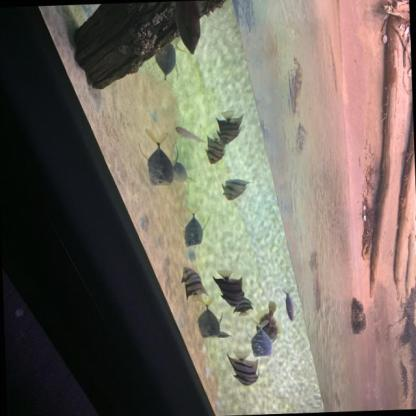fish: (137, 124, 180, 188), (168, 0, 208, 57), (175, 200, 210, 249), (192, 294, 225, 341), (225, 346, 261, 389), (212, 266, 245, 310), (149, 39, 179, 86), (244, 316, 274, 359), (213, 108, 245, 147), (255, 299, 281, 344), (179, 264, 208, 304), (203, 129, 229, 166), (220, 175, 252, 203), (168, 157, 196, 187), (174, 124, 207, 148), (168, 21, 190, 56), (280, 285, 296, 322), (232, 294, 254, 318), (205, 329, 233, 342)
